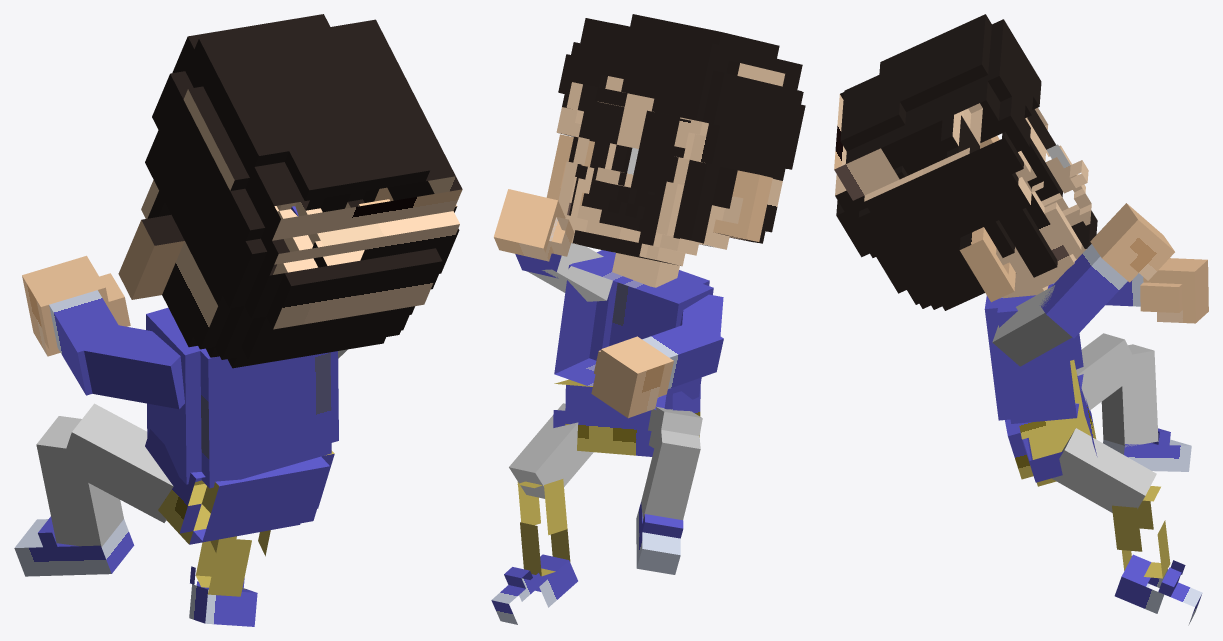
File: kid 1.dae
The picture shows the model from 3 angles, left to right: view 1: azimuth 30°, elevation 25°; view 2: azimuth 150°, elevation 25°; view 3: azimuth 270°, elevation 25°; orthographic projection. The views are drawn at different scales.
Parts seen in each view (by area): view 1: Head-local, Chest-local, Hip-local, Left_Thigh-local, Left_Leg-local, Left_Arm-local, Left_Hand-local, Left_Foot-local, Left_Forearm-local, Right_Leg-local, Right_Foot-local; view 2: Head-local, Chest-local, Hip-local, Left_Hand-local, Right_Hand-local, Left_Leg-local, Right_Thigh-local, Right_Leg-local, Left_Forearm-local, Right_Foot-local, Left_Foot-local, Right_Arm-local (+3 smaller); view 3: Head-local, Chest-local, Right_Thigh-local, Hip-local, Right_Forearm-local, Left_Leg-local, Right_Hand-local, Left_Hand-local, Right_Arm-local, Left_Thigh-local, Right_Foot-local, Right_Leg-local (+2 smaller).
Boxes of the visible parts, x1,y1,x2,y2 form: Head-local: (118,14,462,368); Chest-local: (146,307,338,488); Hip-local: (145,429,334,544); Left_Thigh-local: (60,403,173,522); Left_Leg-local: (36,416,123,546); Left_Arm-local: (84,325,184,409); Left_Hand-local: (22,255,130,356); Left_Foot-local: (14,516,134,576); Left_Forearm-local: (49,290,125,395); Right_Leg-local: (195,530,270,596); Right_Foot-local: (189,566,257,626); Head-local: (546,14,805,287); Chest-local: (554,250,713,409); Hip-local: (553,379,700,456); Left_Hand-local: (591,336,673,418); Right_Hand-local: (494,189,574,261); Left_Leg-local: (641,424,700,520); Right_Thigh-local: (509,403,593,498); Right_Leg-local: (517,479,570,576); Left_Forearm-local: (642,325,723,388); Right_Foot-local: (491,554,577,624); Left_Foot-local: (636,502,683,574); Right_Arm-local: (527,243,612,301); Head-local: (834,14,1097,310); Chest-local: (984,283,1083,423); Right_Thigh-local: (1051,428,1156,512); Hip-local: (1005,360,1097,486); Right_Forearm-local: (1040,244,1127,338); Left_Leg-local: (1101,344,1158,447); Right_Hand-local: (1090,203,1174,282); Left_Hand-local: (1140,258,1208,323); Right_Arm-local: (992,285,1072,366); Left_Thigh-local: (1076,333,1140,410); Right_Foot-local: (1114,554,1202,625); Right_Leg-local: (1112,486,1170,578).
Size of the model in its own units: 18.88 by 45.87 by 28.18.
